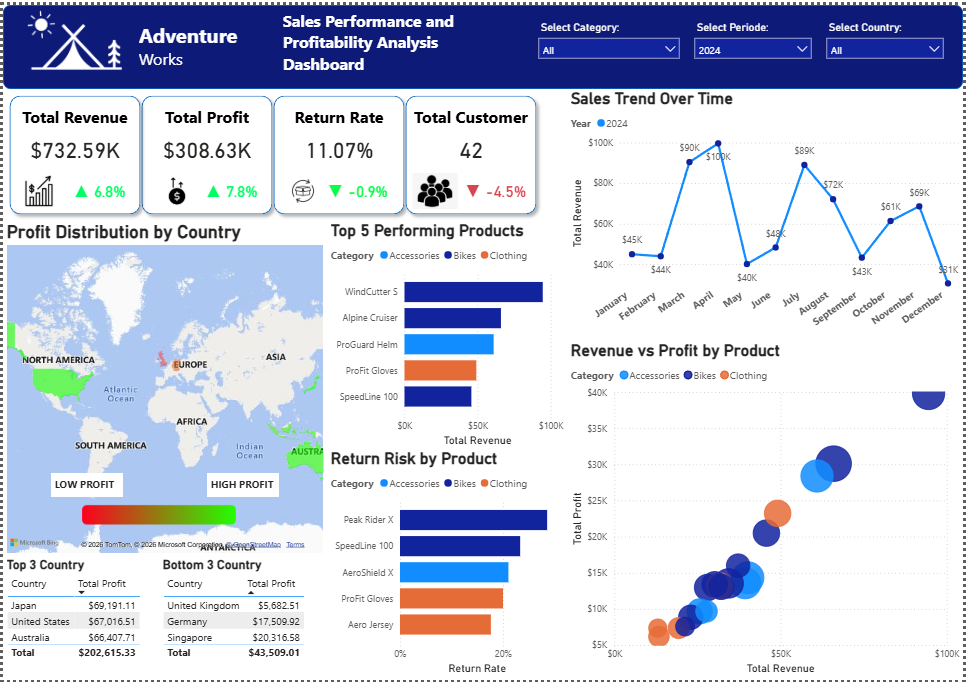

The dashboard page shown, as its layout file describes it:
{"tool":"powerbi","page":{"name":"Dashboard","canvas":[1280,900],"ordinal":0},"visuals":[{"type":"shape","box":[0,112,192,176],"z":0,"group":"g2"},{"type":"shape","box":[176,112,192,176],"z":0,"group":"g1"},{"type":"shape","box":[352,112,192,176],"z":0,"group":"g3"},{"type":"shape","box":[528,112,192,176],"z":0,"group":"g4"},{"type":"filledMap","title":"Profit Distribution by Country","fields":{"Category":["AdventureWorks_Customers.Country"]},"box":[0,288,432,448],"z":0},{"type":"image","box":[80,624,256,112],"z":0,"group":"g5"},{"type":"shape","box":[0,0,1280,112],"z":1000},{"type":"textbox","box":[64,624,96,32],"z":1000,"group":"g5"},{"type":"scatterChart","title":"Revenue vs Profit by Product","fields":{"X":["Measure.Total Revenue"],"Y":["Measure.Total Profit"],"Size":["Measure.Total Quantity"],"Category":["AdventureWorks_Products.ProductName"],"Series":["AdventureWorks_Products.Category"]},"box":[752,448,528,448],"z":2000},{"type":"textbox","box":[272,624,96,32],"z":2000,"group":"g5"},{"type":"lineChart","title":"Sales Trend Over Time","fields":{"Category":["AdventureWorks_Calendar.MonthName"],"Y":["Measure.Total Revenue"],"Series":["AdventureWorks_Calendar.Year"]},"box":[752,112,528,336],"z":3000},{"type":"card","title":"Total Revenue","fields":{"Values":["Measure.Total Revenue"]},"box":[0,160,192,64],"z":3000,"group":"g2"},{"type":"card","title":"Total Revenue","fields":{"Values":["Measure.Total Profit"]},"box":[176,160,192,64],"z":3000,"group":"g1"},{"type":"card","title":"Total Revenue","fields":{"Values":["Measure.Return Rate"]},"box":[352,160,192,64],"z":3000,"group":"g3"},{"type":"card","title":"Total Revenue","fields":{"Values":["Measure.Total Customer"]},"box":[528,160,192,64],"z":3000,"group":"g4"},{"type":"barChart","title":"Top 5 Performing Products","fields":{"Category":["AdventureWorks_Products.ProductName"],"Y":["Measure.Total Revenue"],"Series":["AdventureWorks_Products.Category"]},"box":[432,288,320,304],"z":4000},{"type":"barChart","title":"Return Risk by Product","fields":{"Category":["AdventureWorks_Products.ProductName"],"Series":["AdventureWorks_Products.Category"],"Y":["Measure.Return Rate"]},"box":[432,592,320,304],"z":5000},{"type":"slicer","fields":{"Values":["AdventureWorks_Calendar.Year"]},"box":[912,16,176,80],"z":6000},{"type":"slicer","fields":{"Values":["AdventureWorks_Customers.Country"]},"box":[1088,16,176,80],"z":7000},{"type":"slicer","fields":{"Values":["AdventureWorks_Products.Category"]},"box":[704,16,208,80],"z":8000},{"type":"image","box":[32,0,128,96],"z":9000},{"type":"textbox","box":[176,16,208,80],"z":10000},{"type":"textbox","box":[368,0,320,96],"z":11000},{"type":"group","id":"g1","title":"Group 3","box":[176,112,192,176],"z":12000},{"type":"group","id":"g2","title":"Group 3","box":[0,112,192,176],"z":13000},{"type":"group","id":"g3","title":"Group 3","box":[352,112,192,176],"z":14000},{"type":"group","id":"g4","title":"Group 3","box":[528,112,192,176],"z":15000},{"type":"card","fields":{"Values":["Style.Profit YoY Display"]},"box":[256,224,96,48],"z":16000},{"type":"textbox","box":[0,128,192,48],"z":17000,"group":"g2"},{"type":"textbox","box":[176,128,192,48],"z":17000,"group":"g1"},{"type":"textbox","box":[352,128,192,48],"z":17000,"group":"g3"},{"type":"textbox","box":[528,128,192,48],"z":17000,"group":"g4"},{"type":"image","box":[16,224,64,48],"z":17000},{"type":"image","box":[192,224,80,48],"z":18000},{"type":"image","box":[544,224,64,48],"z":19000},{"type":"image","box":[368,224,64,48],"z":20000},{"type":"card","fields":{"Values":["Style.Revenue YoY Display"]},"box":[80,224,96,48],"z":21000},{"type":"card","fields":{"Values":["Style.Return Rate YoY Display"]},"box":[416,224,112,48],"z":22000},{"type":"card","fields":{"Values":["Style.Customer YoY Display"]},"box":[608,224,96,48],"z":23000},{"type":"group","id":"g5","title":"Group 1","box":[64,624,304,112],"z":24000},{"type":"tableEx","title":"Bottom 3 Country","fields":{"Values":["AdventureWorks_Customers.Country","Measure.Total Profit"]},"box":[208,736,208,160],"z":25000},{"type":"tableEx","title":"Top 3 Country","fields":{"Values":["AdventureWorks_Customers.Country","Measure.Total Profit"]},"box":[0,736,208,160],"z":26000}]}

Visuals, with their boxes in screenshot pixels (x1, y1, x2, y2), scaled from the page's 1280x900 canvas onto the 966x682 screenshot:
shape: l=0, t=85, r=145, b=218
shape: l=133, t=85, r=278, b=218
shape: l=266, t=85, r=411, b=218
shape: l=398, t=85, r=543, b=218
"Profit Distribution by Country" filledMap: l=0, t=218, r=326, b=558
image: l=60, t=473, r=254, b=558
shape: l=0, t=0, r=965, b=85
textbox: l=48, t=473, r=121, b=497
"Revenue vs Profit by Product" scatterChart: l=568, t=339, r=965, b=679
textbox: l=205, t=473, r=278, b=497
"Sales Trend Over Time" lineChart: l=568, t=85, r=965, b=339
"Total Revenue" card: l=0, t=121, r=145, b=170
"Total Revenue" card: l=133, t=121, r=278, b=170
"Total Revenue" card: l=266, t=121, r=411, b=170
"Total Revenue" card: l=398, t=121, r=543, b=170
"Top 5 Performing Products" barChart: l=326, t=218, r=568, b=449
"Return Risk by Product" barChart: l=326, t=449, r=568, b=679
slicer - AdventureWorks_Calendar.Year: l=688, t=12, r=821, b=73
slicer - AdventureWorks_Customers.Country: l=821, t=12, r=954, b=73
slicer - AdventureWorks_Products.Category: l=531, t=12, r=688, b=73
image: l=24, t=0, r=121, b=73
textbox: l=133, t=12, r=290, b=73
textbox: l=278, t=0, r=519, b=73
"Group 3" group: l=133, t=85, r=278, b=218
"Group 3" group: l=0, t=85, r=145, b=218
"Group 3" group: l=266, t=85, r=411, b=218
"Group 3" group: l=398, t=85, r=543, b=218
card - Style.Profit YoY Display: l=193, t=170, r=266, b=206
textbox: l=0, t=97, r=145, b=133
textbox: l=133, t=97, r=278, b=133
textbox: l=266, t=97, r=411, b=133
textbox: l=398, t=97, r=543, b=133
image: l=12, t=170, r=60, b=206
image: l=145, t=170, r=205, b=206
image: l=411, t=170, r=459, b=206
image: l=278, t=170, r=326, b=206
card - Style.Revenue YoY Display: l=60, t=170, r=133, b=206
card - Style.Return Rate YoY Display: l=314, t=170, r=398, b=206
card - Style.Customer YoY Display: l=459, t=170, r=531, b=206
"Group 1" group: l=48, t=473, r=278, b=558
"Bottom 3 Country" tableEx: l=157, t=558, r=314, b=679
"Top 3 Country" tableEx: l=0, t=558, r=157, b=679
